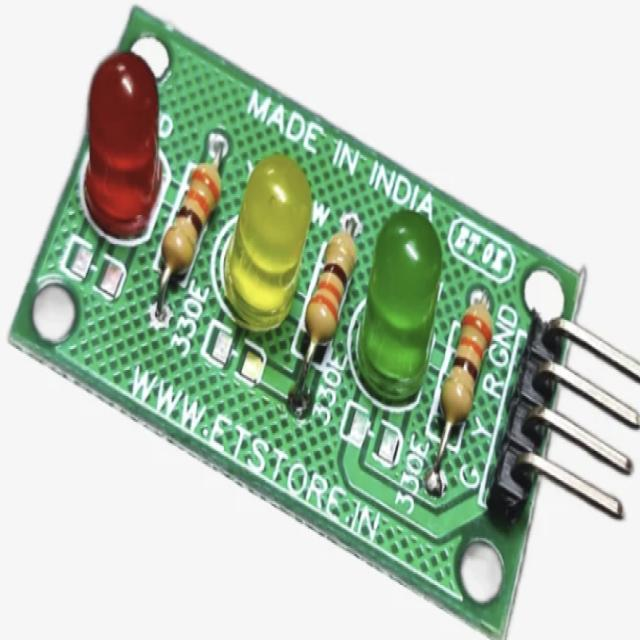led: (80, 51, 166, 250), (221, 146, 302, 335), (356, 204, 431, 401)
pinheader: (499, 306, 631, 542)
resistor: (157, 144, 225, 287), (301, 224, 362, 364), (435, 297, 493, 444)
